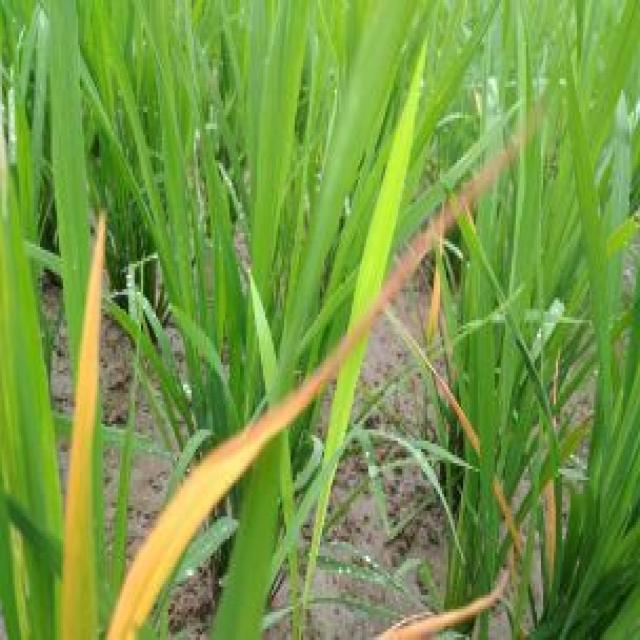Tungro: (153, 280, 355, 631), (404, 214, 555, 640), (50, 207, 143, 640)
